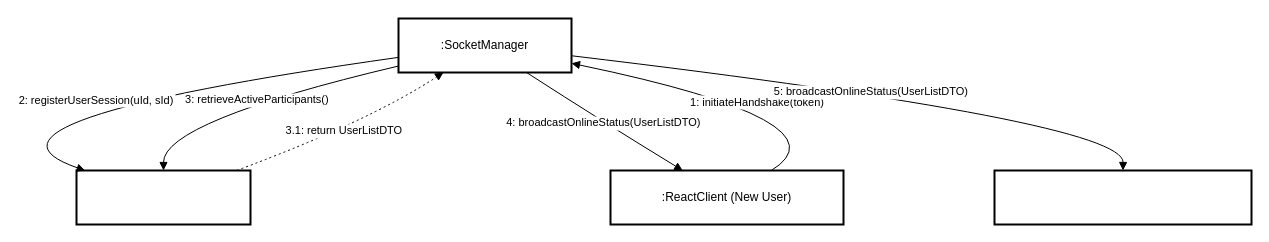
This 1269x242 diagram has some shape labels left out. The shapes that lost their labels are listed below. From the top down, each one's centre as x and y in pixels, then its label:
At (163,197): ":SessionRegistry".
At (1122,197): ":ReactClient (Existing User)".
